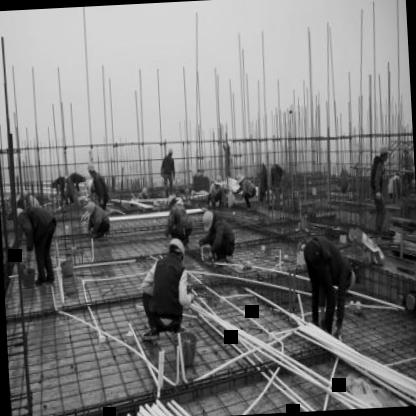helmet: (165, 234, 186, 264), (342, 268, 361, 295), (202, 206, 218, 233), (378, 142, 392, 165), (164, 190, 180, 210), (212, 169, 226, 190), (12, 204, 24, 228), (84, 159, 96, 176), (86, 198, 96, 216)
